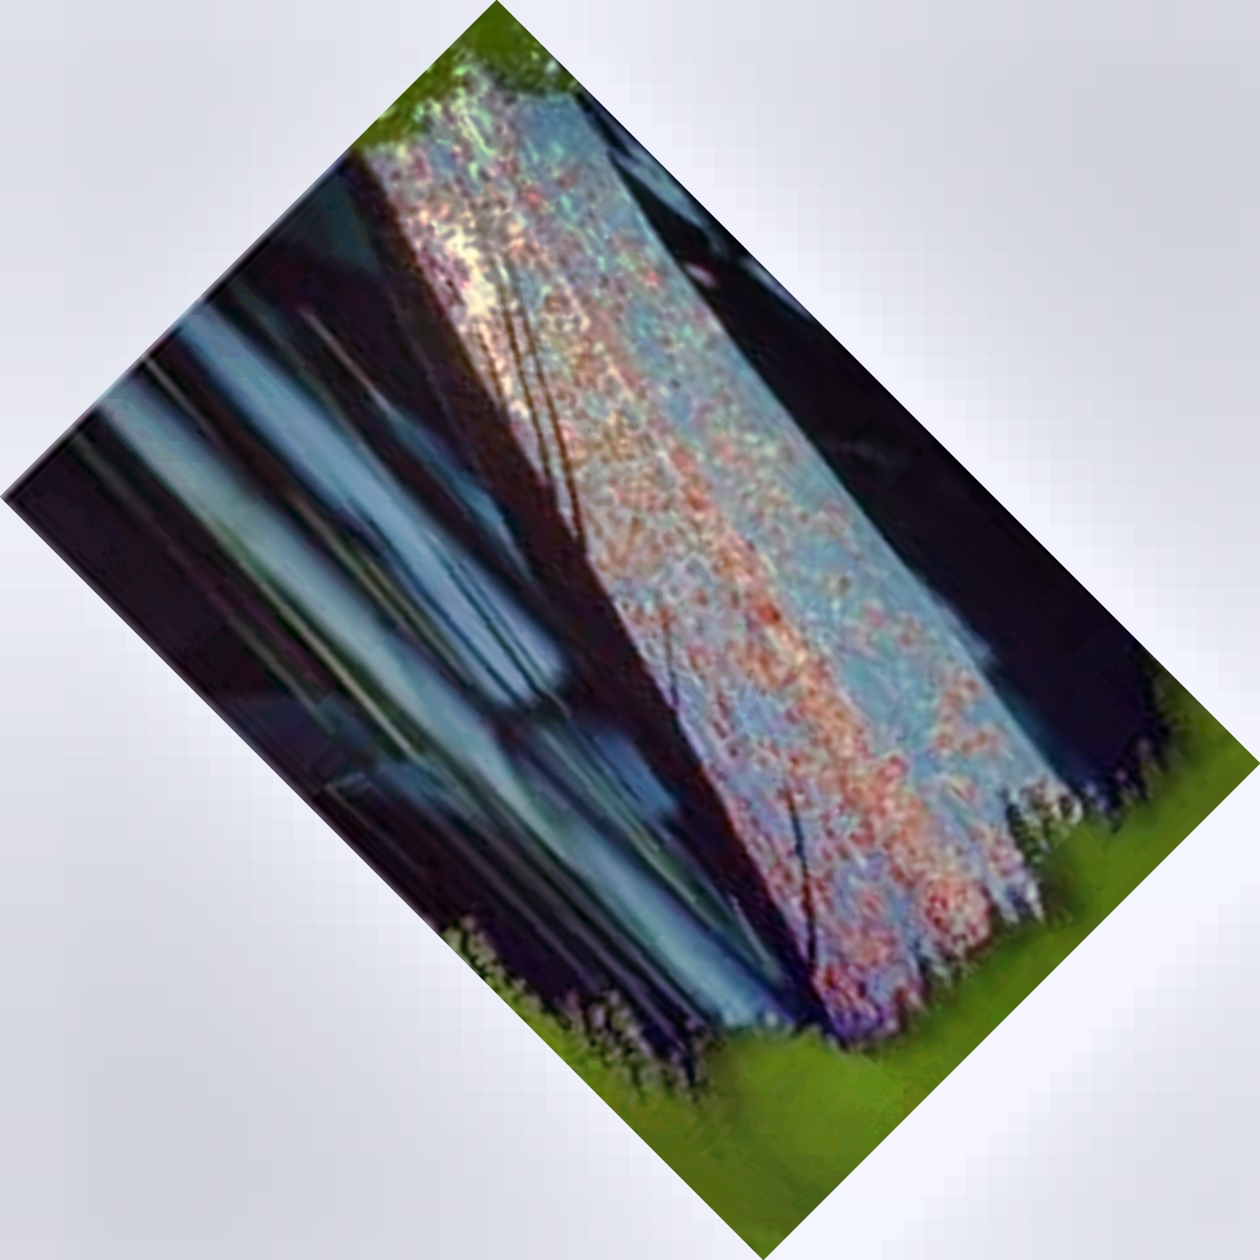Leaf Rust: (587, 402, 973, 885)
